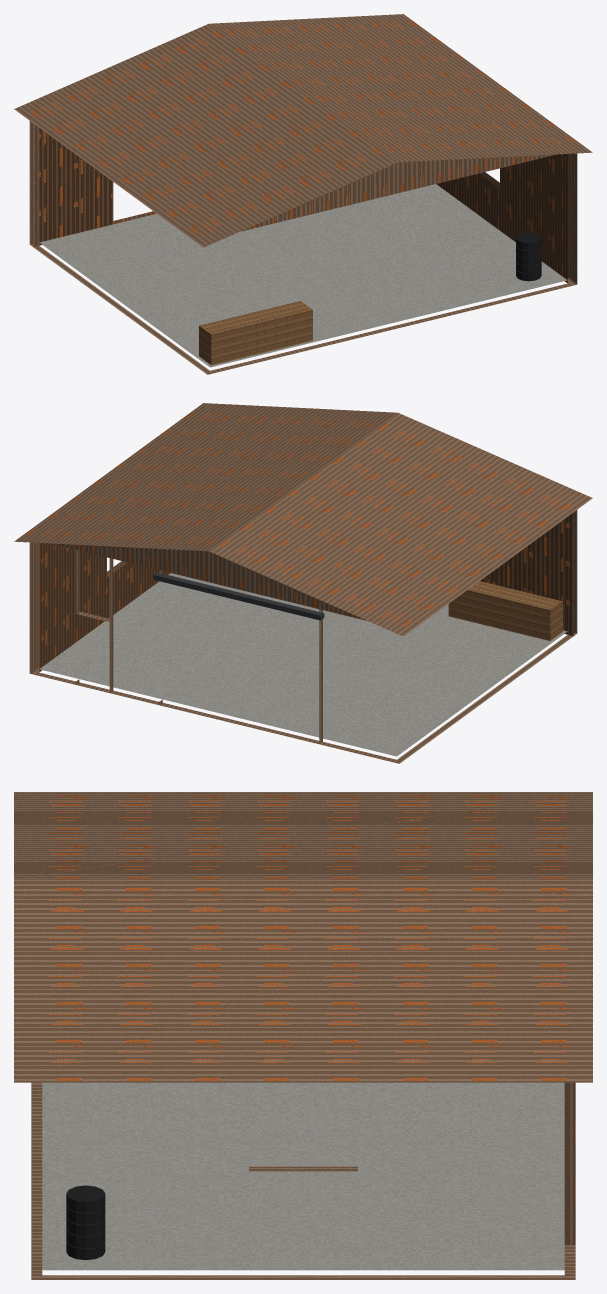
Rendered from workshop_shed.glb.
3 renders of one model, top to bottom at view 1: azimuth 30°, elevation 25°; view 2: azimuth 150°, elevation 25°; view 3: azimuth 270°, elevation 25°, orthographic. The views are drawn at different scales.
Parts seen in each view (by area): view 1: workshop_shed; view 2: workshop_shed; view 3: workshop_shed.
Boxes of the visible parts, box(x1,y1,x2,y2) form: workshop_shed: box(14, 14, 592, 374); workshop_shed: box(14, 403, 592, 763); workshop_shed: box(14, 792, 592, 1279).
Size of the model in its own units: 12.64 by 5.32 by 10.64.
Materials: 6 (6 with a texture image).
